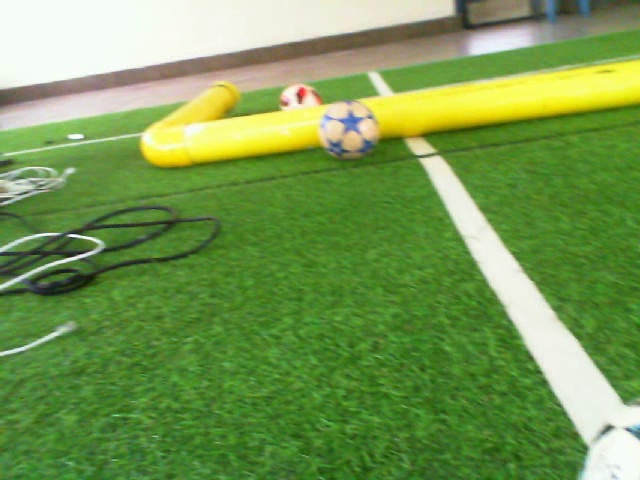ball: (318, 97, 381, 164), (278, 81, 318, 112)
